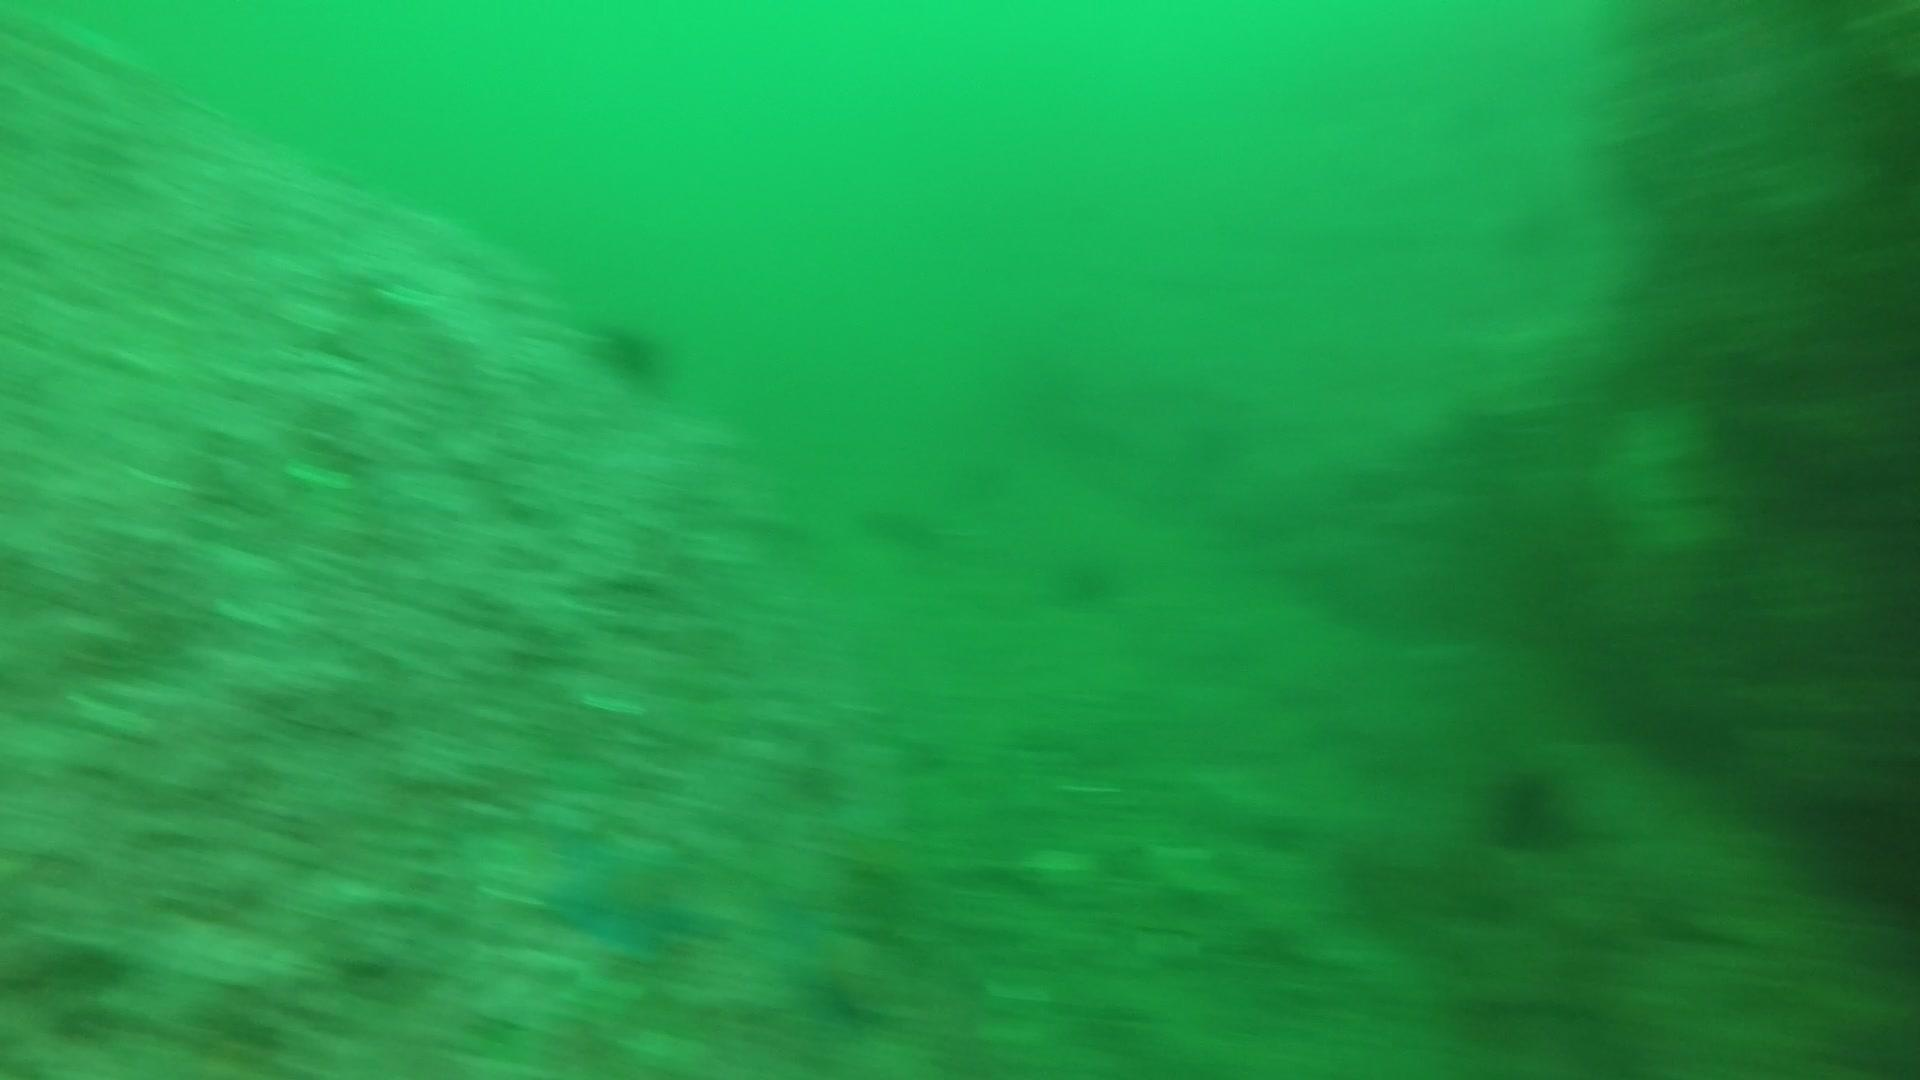echinus: (1478, 757, 1581, 855), (584, 309, 678, 389), (1043, 541, 1126, 613)
starfish: (525, 818, 735, 967)
